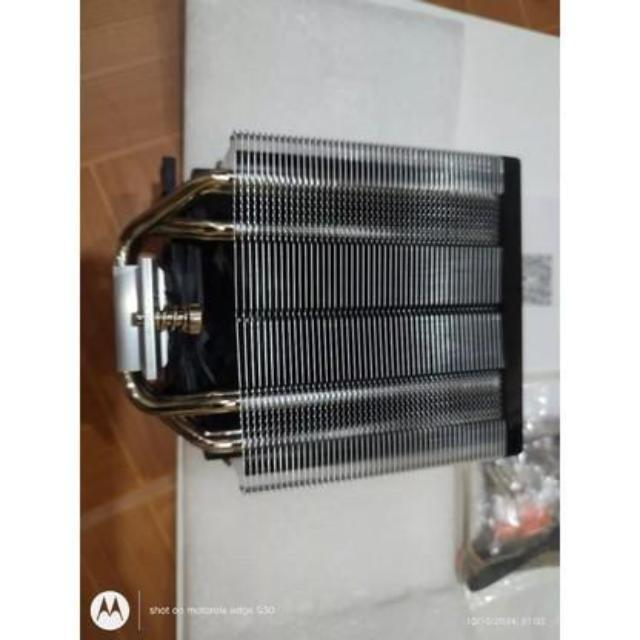CPU_Fan: (104, 127, 526, 502)
